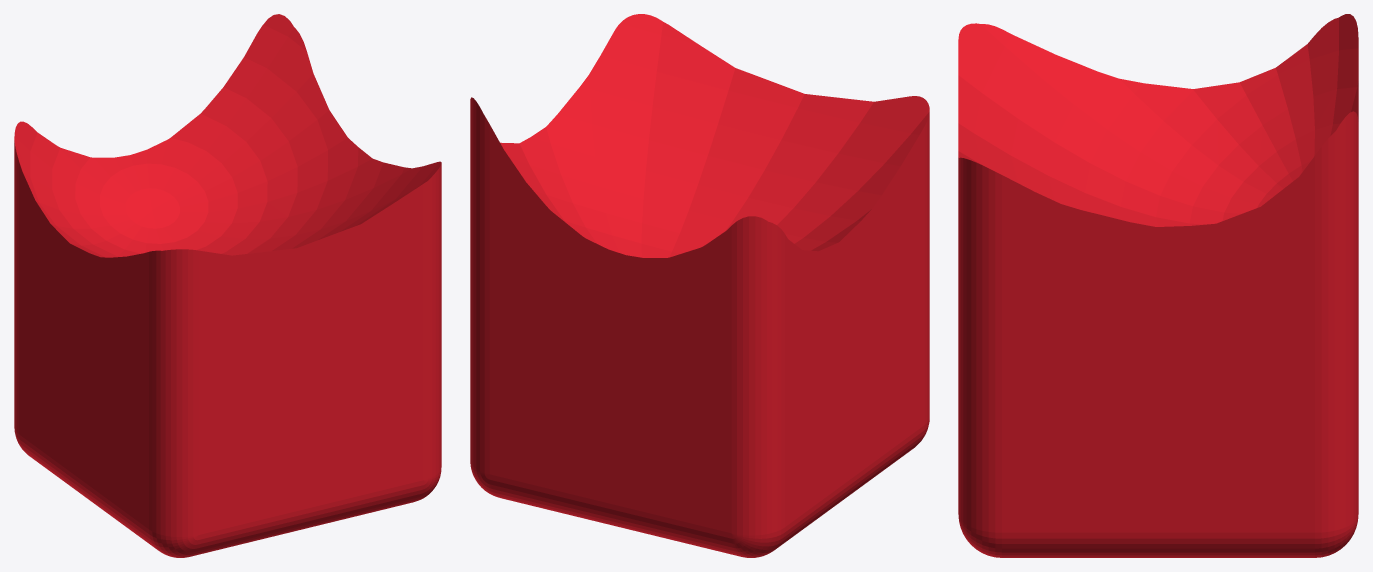
Rendered from Brick2.obj.
The picture shows the model from 3 angles, left to right: view 1: azimuth 30°, elevation 25°; view 2: azimuth 150°, elevation 25°; view 3: azimuth 270°, elevation 25°; orthographic projection. The views are drawn at different scales.
Visible parts, largest first — view 1: obj_0; view 2: obj_0; view 3: obj_0.
Boxes of the visible parts, bbox=[...] form: obj_0: bbox=[14, 14, 441, 557]; obj_0: bbox=[470, 14, 929, 557]; obj_0: bbox=[958, 14, 1358, 557].
Size of the model in its own units: 20 by 24.95 by 20.
